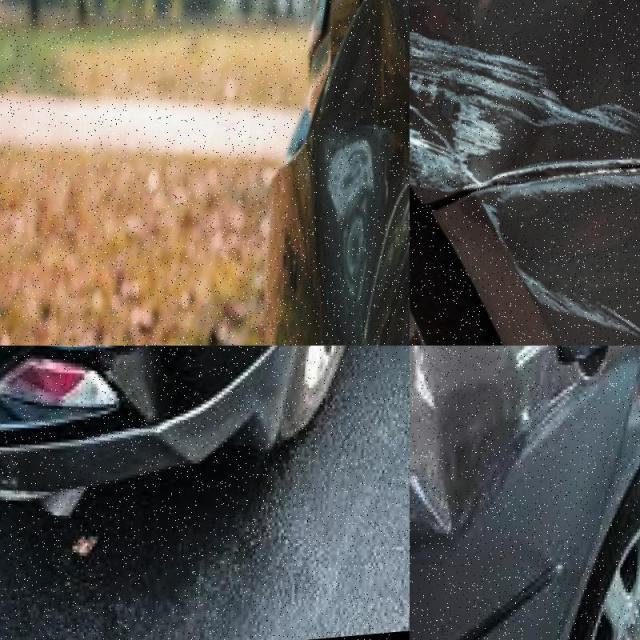car damage: (306, 0, 413, 305), (407, 27, 590, 196), (417, 351, 545, 536)
